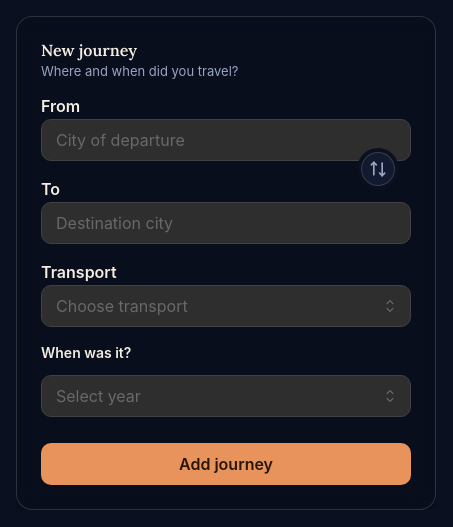
it: AddJourneyPage — поля формы › в выборе года есть текущий год, но нет следующего
What coordinates should you click on to do the following:
click the dropdown with placeholder "Select year"
I would click on:
 (226, 396)
Its box is [41,375,411,417].
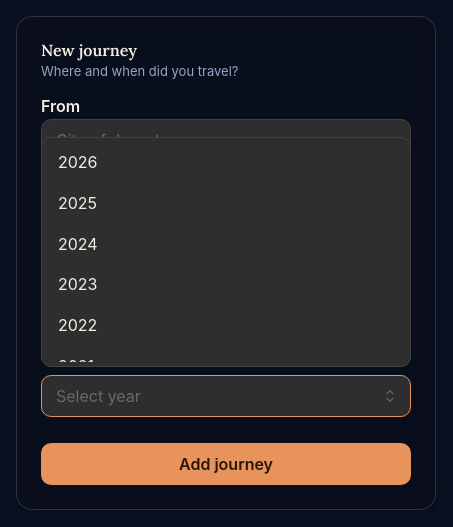
Result: the option "2026" is shown at [58,152,98,172]
